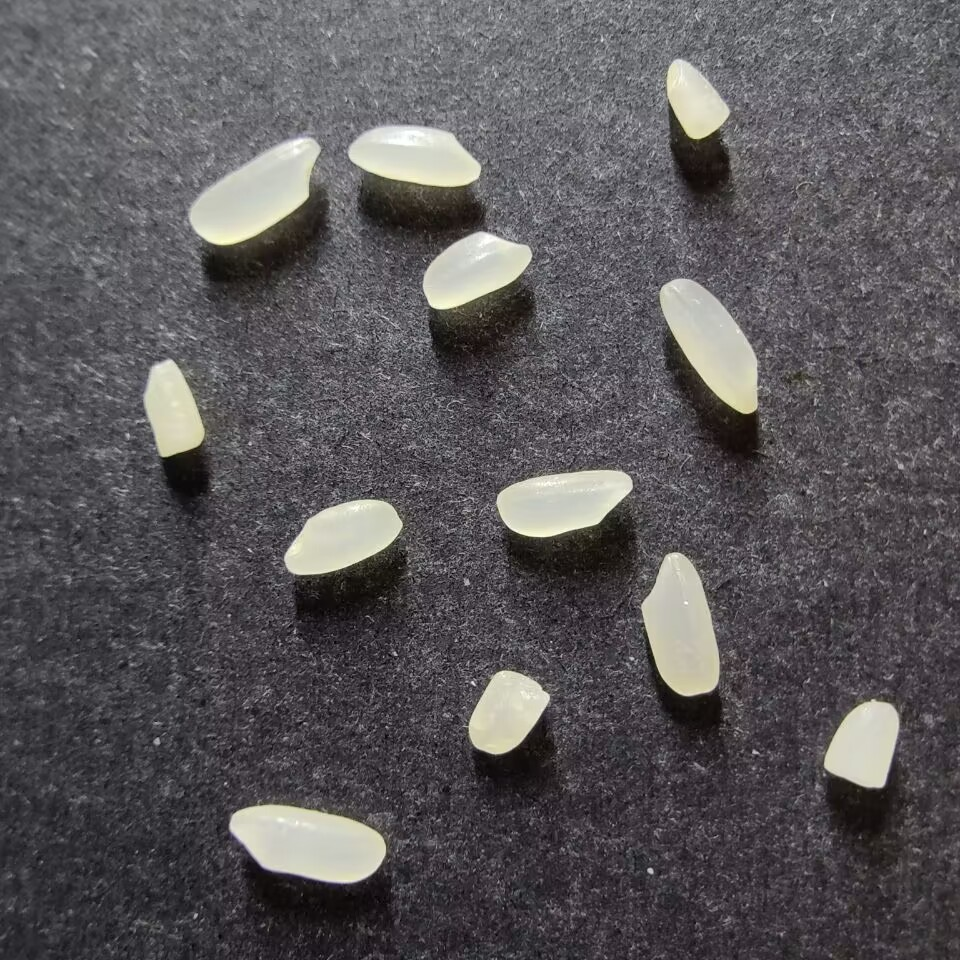broken: (467, 669, 549, 755), (823, 700, 899, 789), (142, 359, 205, 457), (665, 58, 730, 139)
rice: (188, 137, 321, 244), (658, 277, 760, 414), (228, 805, 385, 883), (640, 552, 720, 696), (496, 470, 633, 537), (283, 499, 402, 575), (422, 231, 532, 310), (347, 125, 481, 186)
